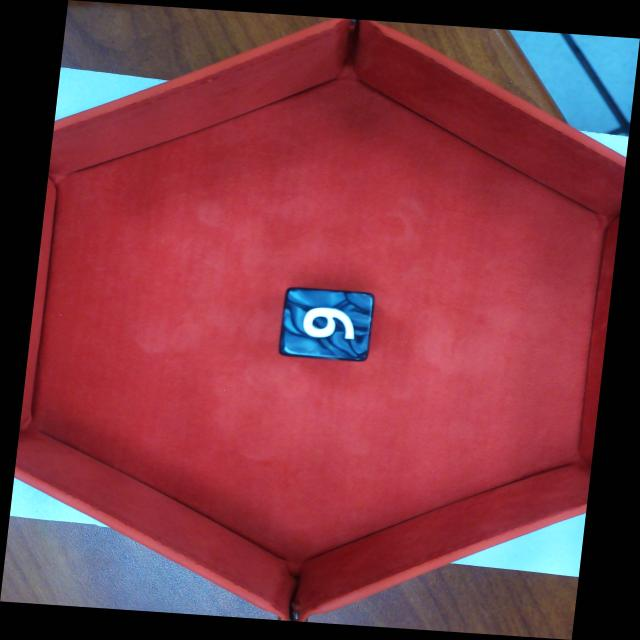dice: (275, 286, 379, 366)
